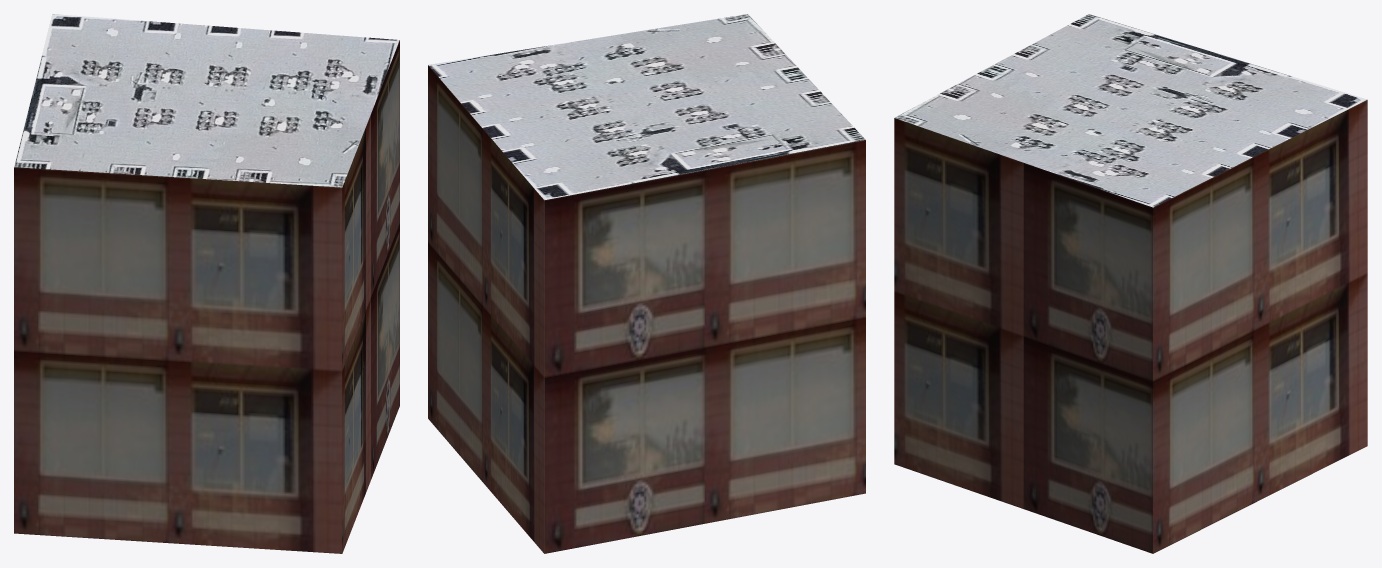
Rendered from ResTex__5058.fbx.
The picture shows the model from 3 angles, left to right: view 1: azimuth 30°, elevation 25°; view 2: azimuth 150°, elevation 25°; view 3: azimuth 270°, elevation 25°; orthographic projection. The views are drawn at different scales.
Parts seen in each view (by area): view 1: CityEngineMaterial_13_m, CityEngineMaterial_m; view 2: CityEngineMaterial_13_m, CityEngineMaterial_m; view 3: CityEngineMaterial_13_m, CityEngineMaterial_m.
Boxes of the visible parts, x1,y1,x2,y2 form: CityEngineMaterial_13_m: [14, 40, 399, 553]; CityEngineMaterial_m: [14, 14, 399, 187]; CityEngineMaterial_13_m: [428, 65, 865, 553]; CityEngineMaterial_m: [428, 14, 865, 200]; CityEngineMaterial_13_m: [894, 100, 1367, 553]; CityEngineMaterial_m: [894, 14, 1367, 207].
Bounding box in the file's own units: 7.19 × 6 × 7.43.
2 materials, 2 textured.
